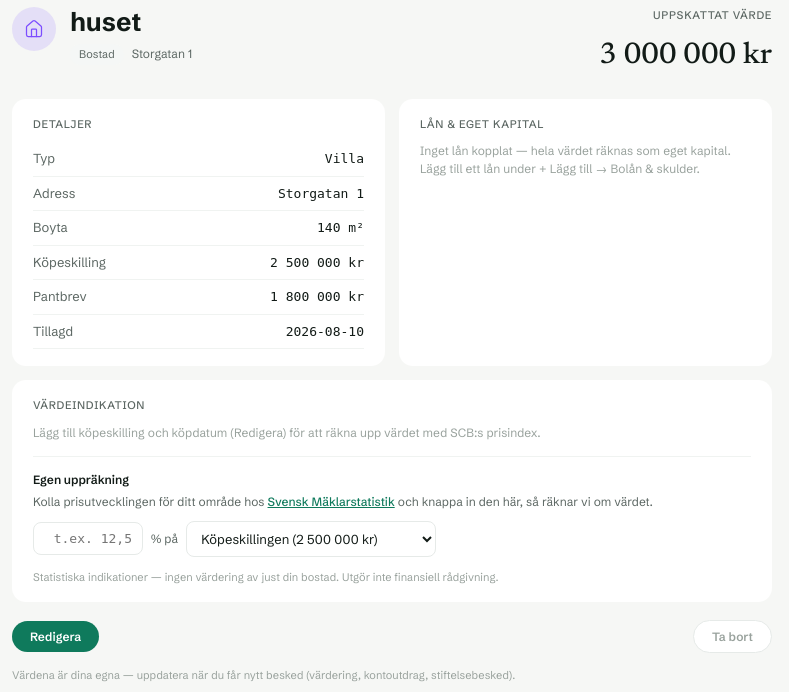
Test: ManualAssetView › Ägande-sektionen (familjeläge) › refuses to save when the shares sum to more than 100 %
Click the button "Redigera".
click(56, 636)  # box top-left (12, 621), bottom-right (99, 652)
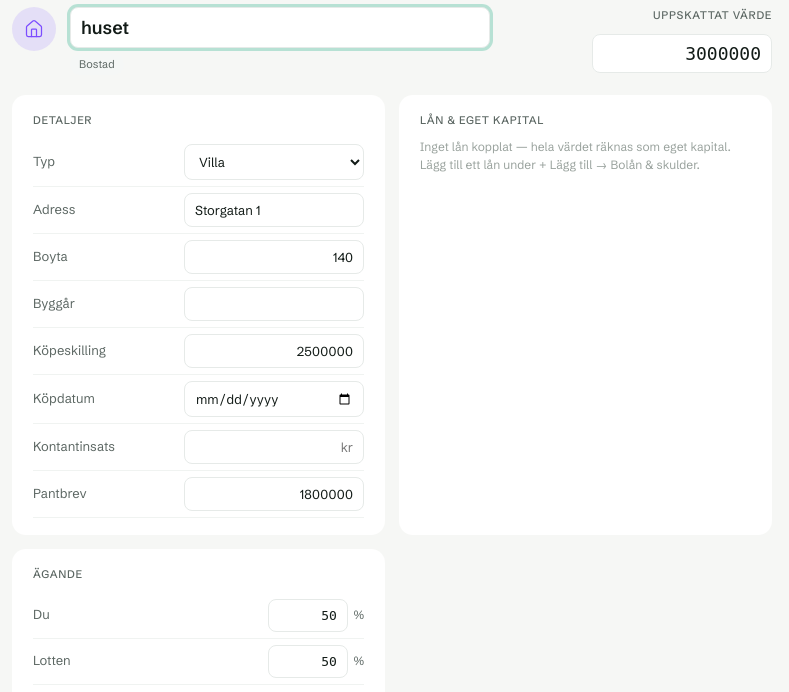
Replace the text in the field named "Ägarandel Du" with "80" at (308, 615), box top-left (268, 598), bottom-right (348, 632)
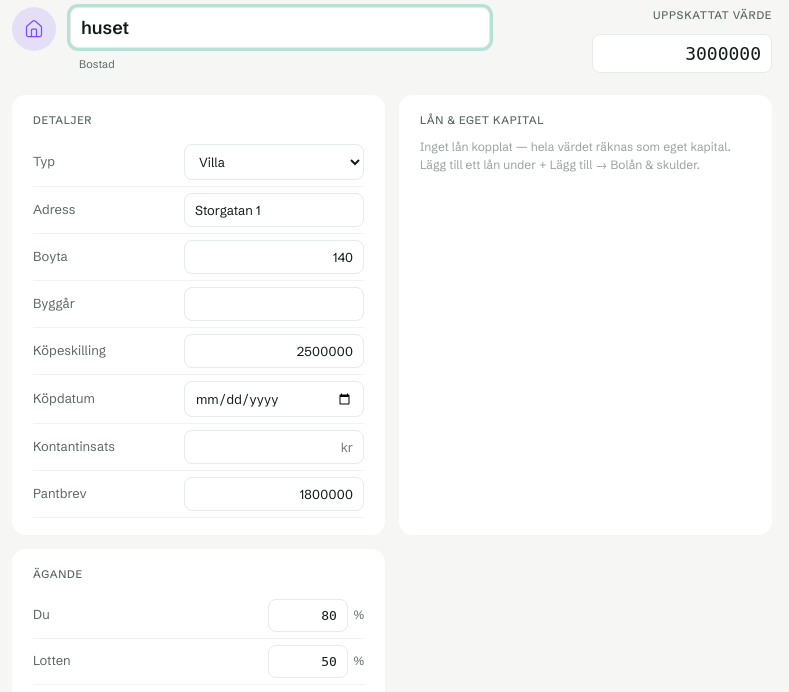
Replace the text in the field named "Ägarandel Lotten" with "80" at (308, 661), box top-left (268, 644), bottom-right (348, 678)
(page scrolled)
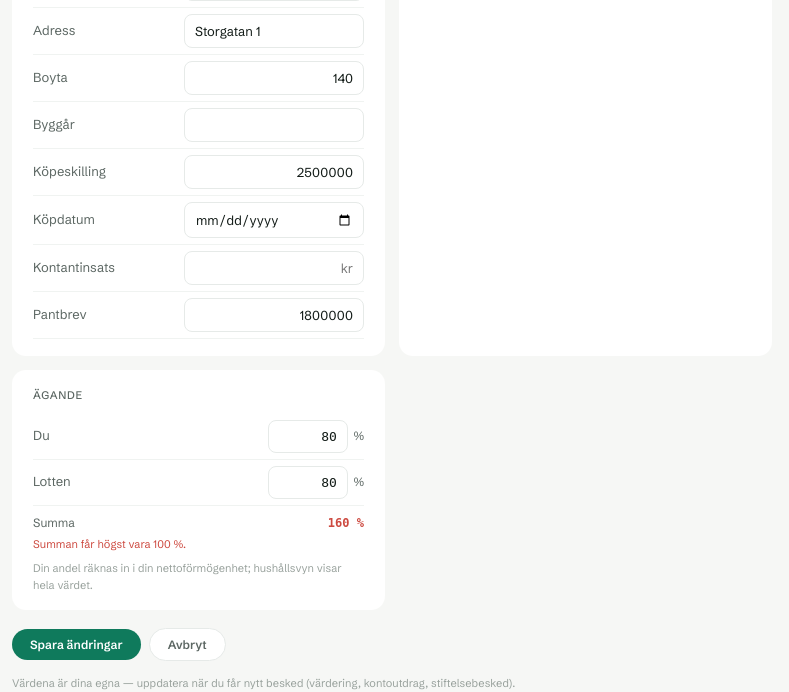
Click the button "Spara ändringar".
click(76, 644)  # box top-left (12, 629), bottom-right (141, 660)
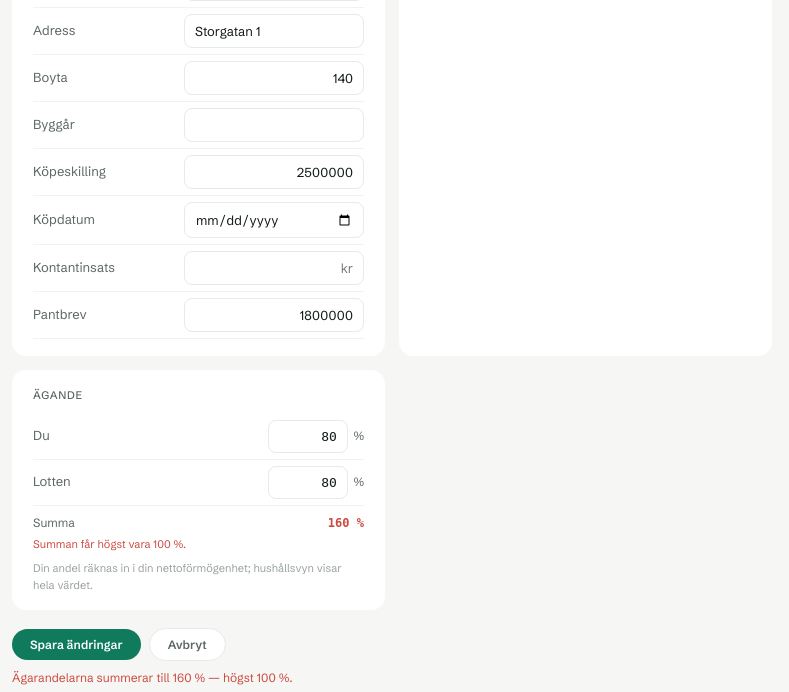
Now the text "Ägarandelarna summerar till 160 % — högst 100 %." is shown, box top-left (12, 670), bottom-right (292, 685)
